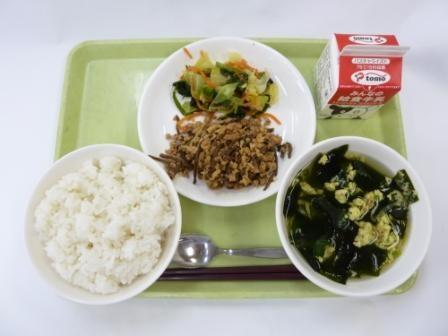Milk: (310, 29, 413, 120)
Rice: (32, 150, 166, 293)
Soups: (285, 145, 420, 280)
cooked food based on meat: (149, 115, 292, 191)
salad with sauce: (171, 50, 278, 119)
